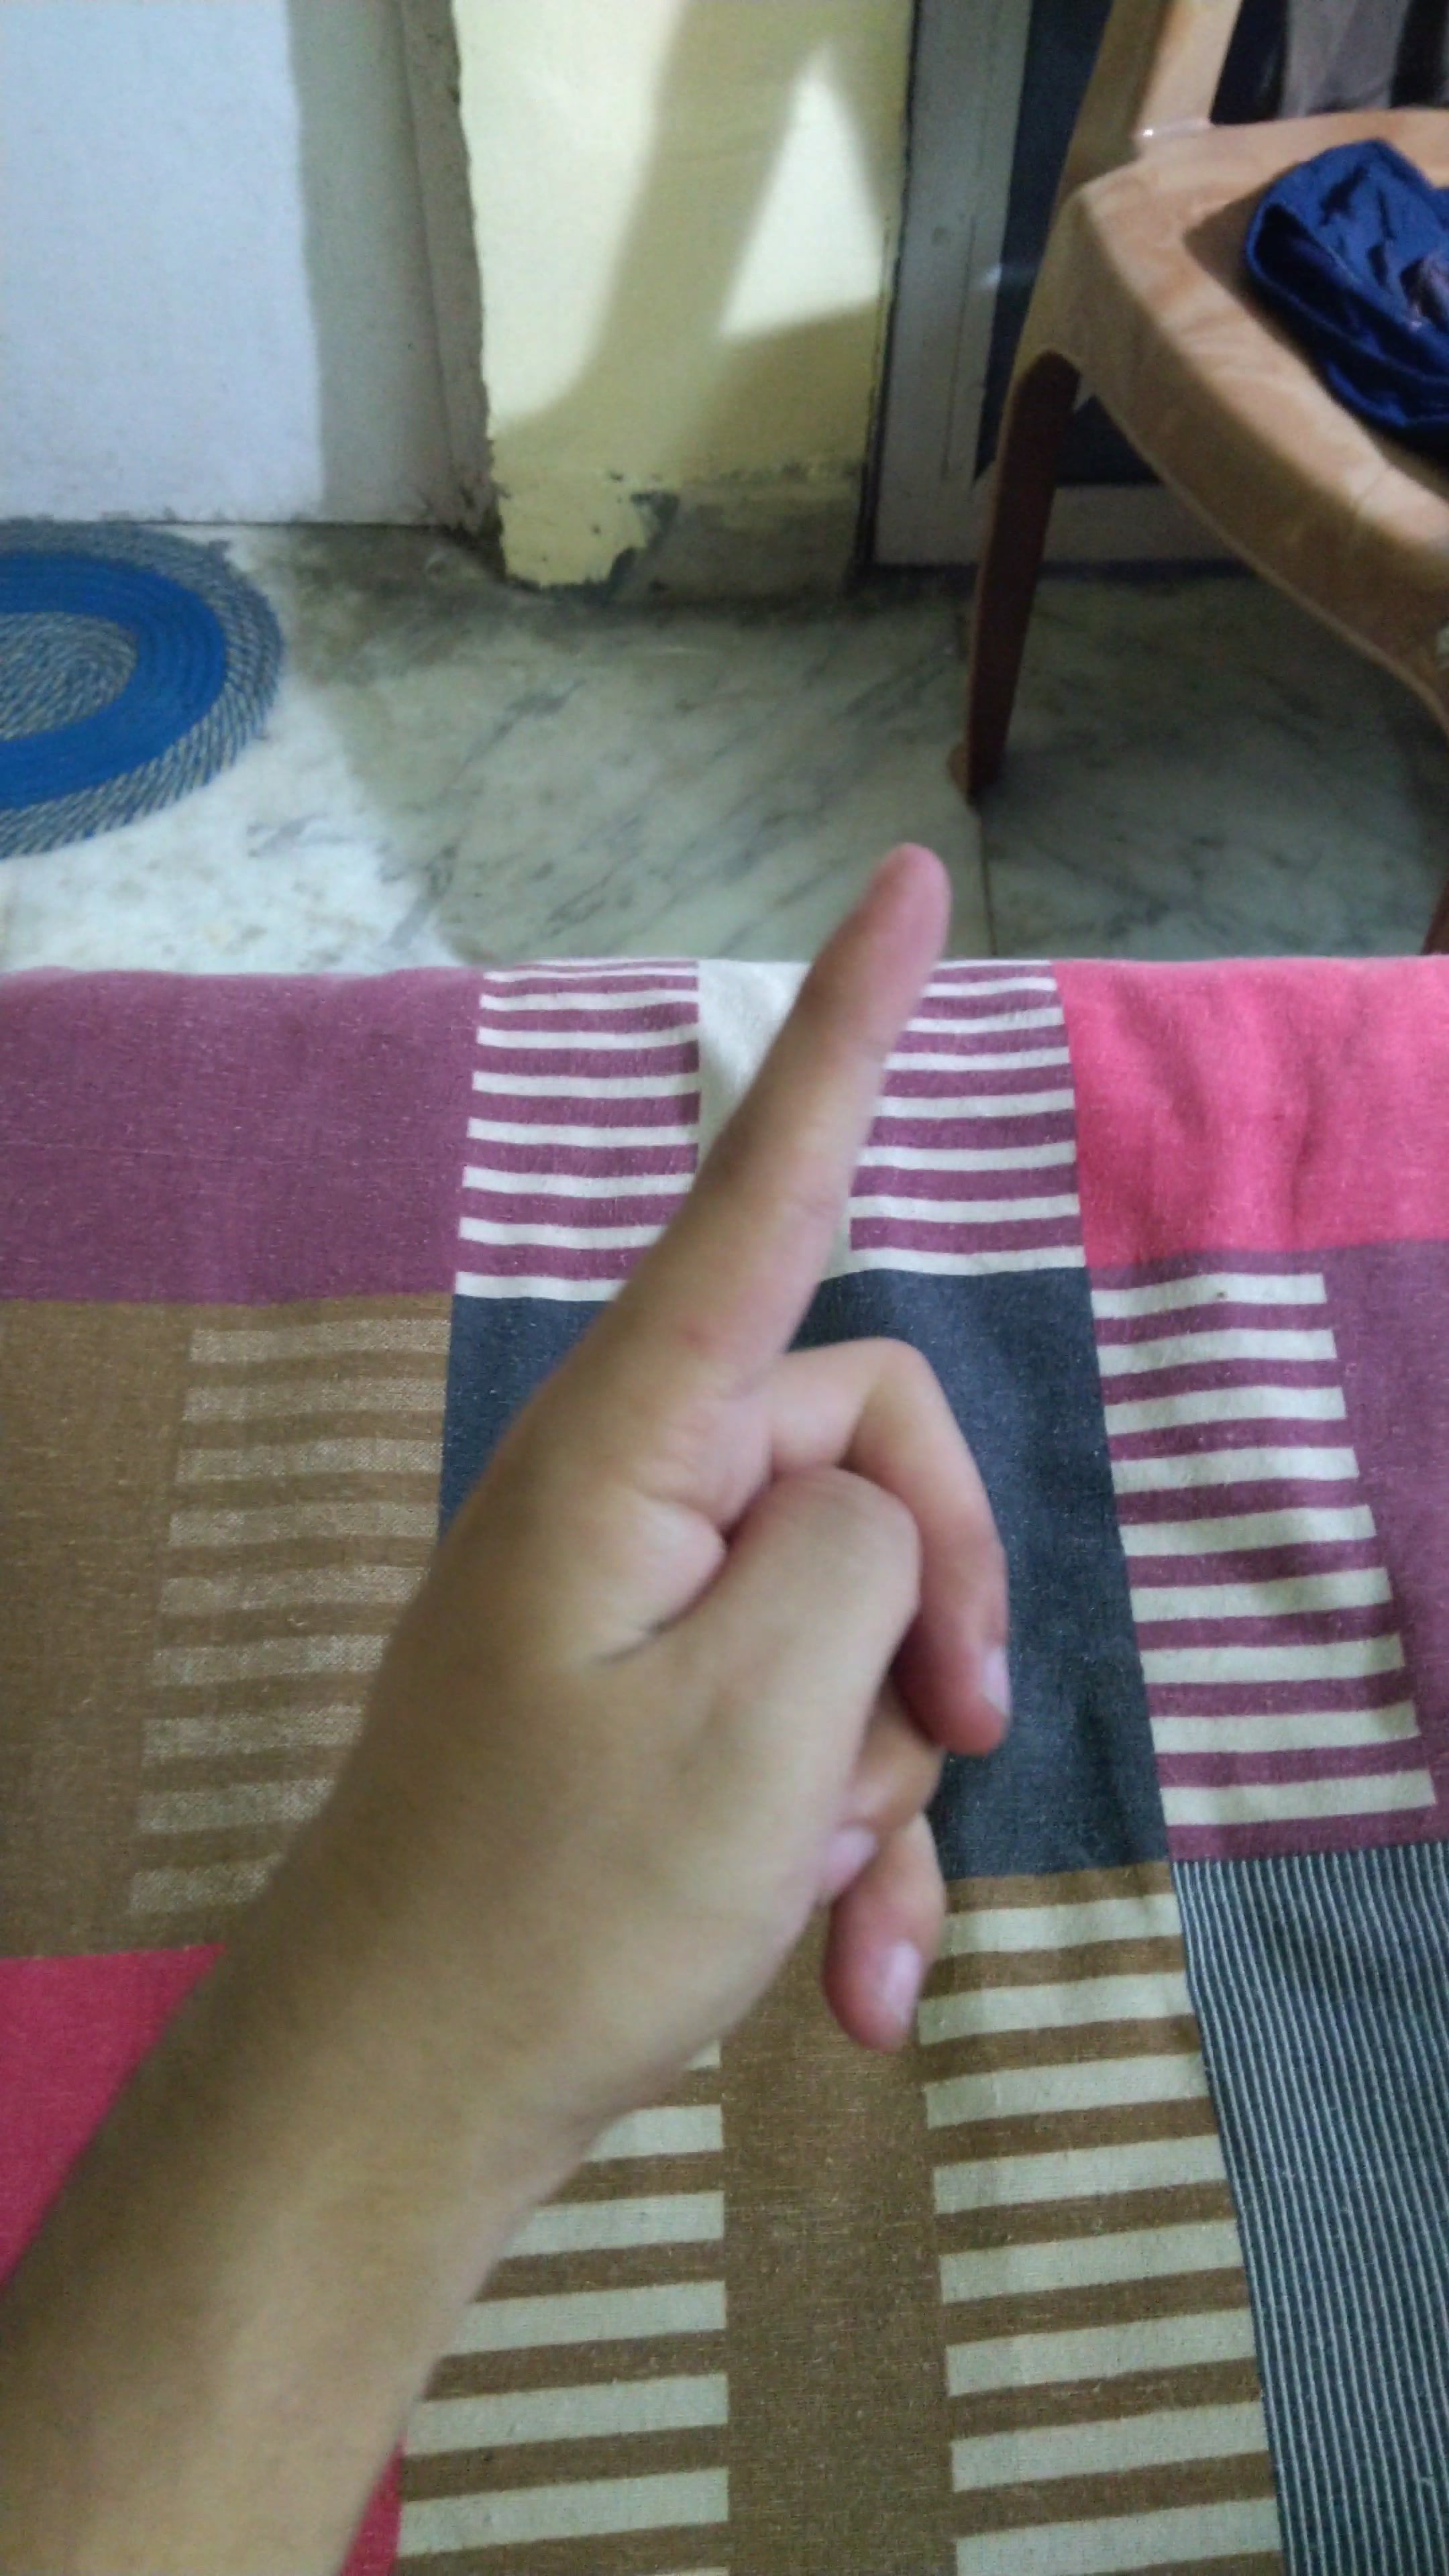hand: (255, 801, 1173, 2203)
